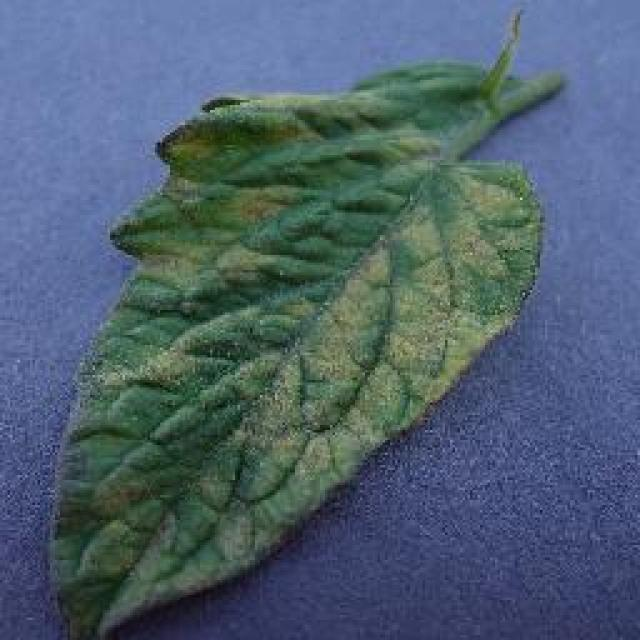leaf mold: (52, 63, 568, 638)
